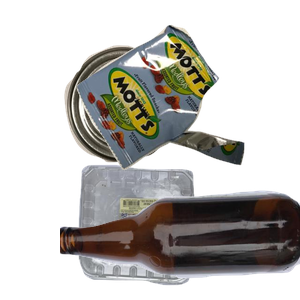glass: (60, 188, 300, 300)
metal: (62, 43, 232, 198)
plastic: (76, 162, 264, 300)
trash: (74, 22, 300, 185)
